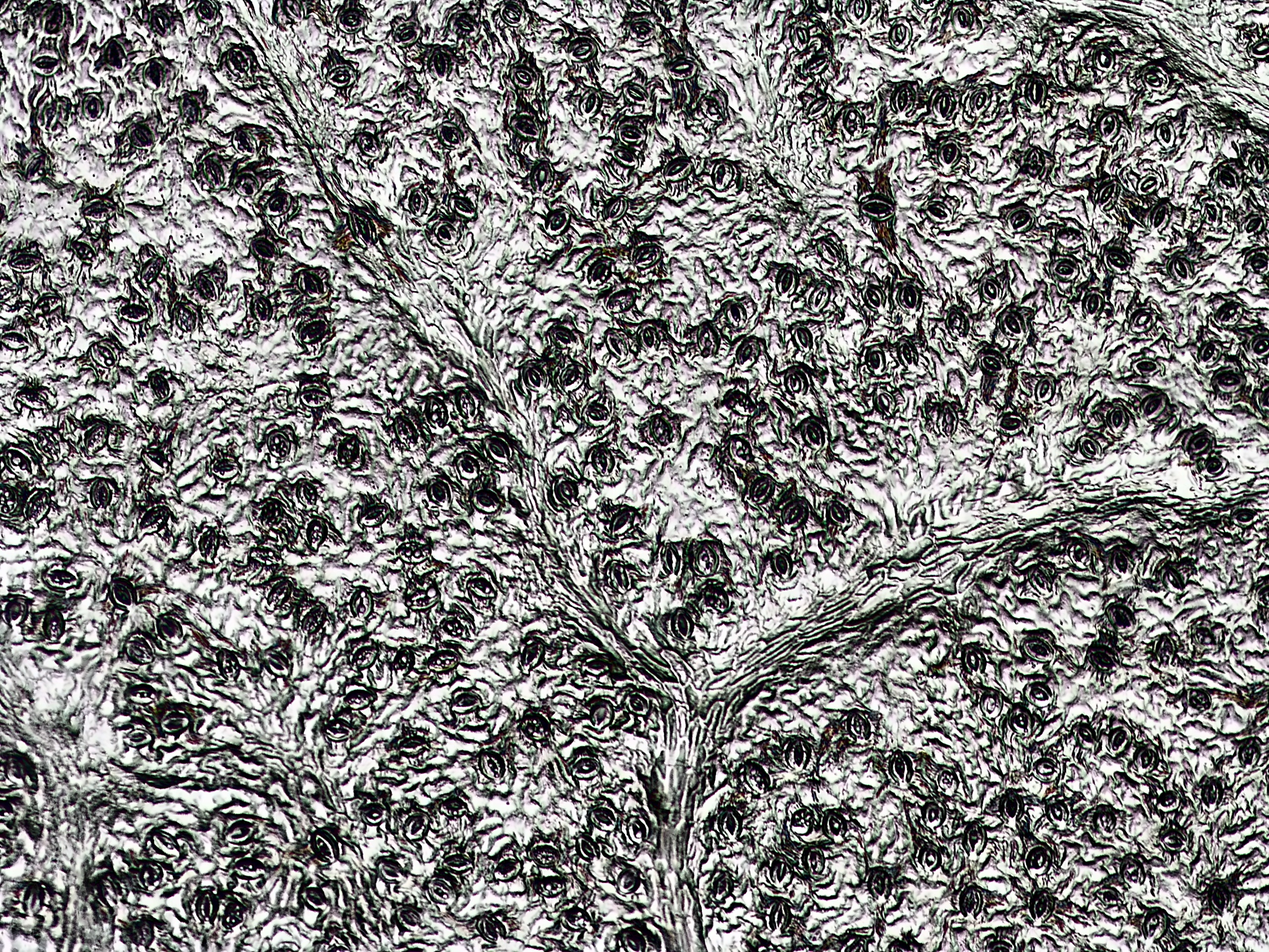stomata: (346, 209, 377, 247), (646, 414, 679, 449), (889, 80, 919, 117), (3, 446, 35, 480), (22, 488, 51, 525), (309, 829, 339, 864), (40, 564, 80, 590), (296, 380, 333, 408), (1020, 635, 1057, 662), (475, 912, 507, 943), (801, 417, 830, 451), (140, 505, 170, 537), (1105, 602, 1137, 632), (179, 89, 207, 123), (718, 806, 743, 844), (83, 421, 110, 456), (1024, 843, 1051, 878), (478, 749, 507, 781), (742, 760, 770, 793), (1007, 704, 1035, 737), (1086, 645, 1119, 673), (1143, 908, 1170, 942), (889, 748, 913, 786), (296, 318, 331, 344), (821, 809, 847, 844), (962, 820, 987, 856), (1000, 787, 1025, 823), (225, 45, 254, 76), (139, 446, 170, 475), (467, 573, 499, 601), (896, 283, 923, 316), (1022, 680, 1055, 707), (1206, 882, 1233, 915), (670, 606, 696, 640), (696, 321, 721, 356), (15, 386, 50, 411), (1030, 889, 1055, 924), (815, 236, 844, 266), (1140, 64, 1171, 92), (426, 878, 457, 906), (510, 114, 542, 141), (519, 714, 551, 741), (867, 866, 891, 902), (729, 435, 756, 467), (529, 160, 555, 193), (861, 195, 894, 221), (348, 589, 374, 622), (42, 605, 65, 642), (887, 17, 912, 51), (785, 737, 810, 771), (933, 86, 957, 121), (775, 263, 799, 298), (357, 503, 392, 527), (154, 613, 184, 641), (451, 687, 482, 714), (781, 499, 808, 530), (306, 516, 328, 554), (770, 854, 792, 892), (394, 540, 430, 563), (735, 337, 760, 370), (425, 393, 449, 427), (768, 898, 792, 932), (108, 578, 136, 607), (151, 828, 179, 857), (747, 475, 775, 504), (610, 508, 638, 537), (522, 363, 550, 392), (633, 241, 663, 268), (999, 309, 1026, 339), (1168, 255, 1195, 285), (264, 650, 291, 680), (352, 644, 382, 671), (1139, 392, 1169, 419), (428, 47, 454, 78), (87, 341, 118, 367), (470, 487, 501, 513), (589, 699, 615, 730), (607, 558, 630, 593), (635, 322, 660, 354), (1048, 257, 1080, 282), (392, 414, 417, 446), (217, 649, 242, 681), (560, 907, 592, 932), (922, 798, 947, 830), (961, 644, 986, 676), (590, 442, 615, 474), (937, 136, 961, 169), (426, 650, 462, 672), (22, 881, 44, 917), (847, 709, 871, 742), (695, 543, 719, 576), (297, 269, 325, 297), (1065, 540, 1094, 567), (896, 335, 919, 369), (266, 428, 292, 458), (227, 820, 258, 845), (625, 815, 650, 846), (530, 845, 561, 870), (659, 541, 681, 576), (604, 328, 628, 360), (209, 455, 241, 479), (428, 478, 452, 510), (1200, 777, 1224, 809), (1028, 71, 1048, 109), (174, 300, 197, 333), (936, 404, 959, 437), (354, 131, 381, 159), (1104, 247, 1132, 274), (1130, 307, 1158, 334), (771, 546, 792, 582), (559, 363, 586, 391), (545, 207, 571, 236), (396, 905, 425, 931), (1032, 756, 1061, 782), (569, 37, 599, 62), (925, 200, 955, 225), (554, 476, 579, 506), (784, 366, 809, 396), (1045, 799, 1070, 829), (198, 528, 220, 562), (233, 857, 267, 879), (1148, 200, 1172, 231), (405, 809, 429, 840), (1108, 725, 1132, 756), (1106, 404, 1130, 435), (712, 158, 735, 190), (196, 890, 219, 922), (1212, 370, 1244, 393), (377, 857, 404, 884), (485, 437, 511, 465), (589, 805, 617, 831), (1082, 287, 1104, 320), (30, 294, 63, 316), (959, 884, 981, 917), (722, 300, 747, 329), (520, 642, 545, 671), (703, 584, 728, 613), (1161, 565, 1186, 594), (663, 158, 693, 182), (89, 477, 113, 507), (405, 589, 441, 609), (1155, 633, 1176, 667), (1213, 302, 1244, 325), (337, 433, 360, 464), (980, 688, 1003, 719), (865, 345, 887, 377), (250, 546, 282, 568), (394, 21, 420, 48), (454, 452, 480, 479), (625, 690, 651, 717), (1072, 721, 1098, 748), (436, 122, 464, 147), (619, 119, 647, 144), (1005, 207, 1033, 232), (978, 352, 1006, 377), (579, 87, 603, 116), (268, 580, 292, 609), (1237, 737, 1261, 766), (808, 283, 831, 313), (1098, 110, 1121, 140), (295, 479, 318, 509), (299, 887, 329, 910), (873, 386, 896, 416), (203, 157, 225, 188), (844, 105, 866, 136), (970, 85, 992, 116), (951, 4, 973, 35), (790, 323, 812, 354), (359, 803, 390, 825), (711, 871, 733, 902), (117, 302, 151, 322), (861, 285, 887, 311), (603, 195, 628, 222), (575, 835, 600, 862), (616, 867, 641, 894), (790, 809, 815, 836), (1079, 434, 1104, 461), (790, 20, 811, 52), (587, 258, 611, 286), (1092, 44, 1116, 72), (918, 843, 942, 871), (140, 255, 163, 284), (338, 8, 367, 31), (609, 144, 638, 167), (537, 875, 566, 898), (81, 200, 114, 220), (234, 126, 256, 156), (1156, 116, 1176, 149), (322, 719, 355, 739), (1136, 744, 1158, 774), (1110, 545, 1132, 575), (141, 861, 162, 892), (399, 736, 430, 757), (449, 193, 475, 218), (510, 63, 536, 88), (440, 795, 467, 819), (583, 403, 610, 427), (1197, 341, 1224, 365), (82, 93, 105, 121), (70, 240, 98, 263), (946, 308, 969, 336), (802, 847, 825, 875), (1160, 830, 1188, 853), (1055, 228, 1087, 248), (606, 290, 635, 312), (345, 690, 374, 712), (572, 756, 601, 778), (548, 326, 577, 348), (327, 65, 357, 86), (409, 188, 430, 218), (127, 683, 157, 704), (622, 82, 648, 106), (826, 499, 850, 525), (936, 770, 960, 796), (1200, 199, 1223, 226), (494, 858, 521, 881), (666, 59, 697, 79), (1035, 372, 1055, 403), (1096, 804, 1118, 832), (1154, 791, 1182, 813), (9, 254, 45, 271), (161, 713, 190, 734), (1131, 357, 1160, 378), (434, 222, 458, 247), (499, 2, 524, 26), (143, 60, 165, 87), (252, 295, 274, 322), (998, 413, 1025, 435), (151, 369, 170, 400), (122, 729, 153, 748), (124, 641, 152, 662), (1031, 567, 1052, 595), (1249, 153, 1269, 182), (395, 646, 415, 675), (127, 123, 152, 146), (234, 174, 259, 197), (455, 386, 474, 416), (1097, 179, 1117, 207), (105, 40, 124, 69), (25, 154, 46, 180), (444, 854, 476, 871), (631, 18, 654, 41), (1242, 214, 1265, 237), (808, 97, 832, 119), (1137, 172, 1161, 194), (151, 7, 169, 36), (194, 273, 215, 297), (1187, 433, 1211, 454), (252, 237, 277, 257), (1217, 166, 1238, 189), (981, 278, 1001, 302), (1203, 456, 1227, 476), (1026, 147, 1043, 175), (32, 56, 58, 73), (457, 13, 476, 34), (268, 193, 287, 212)
